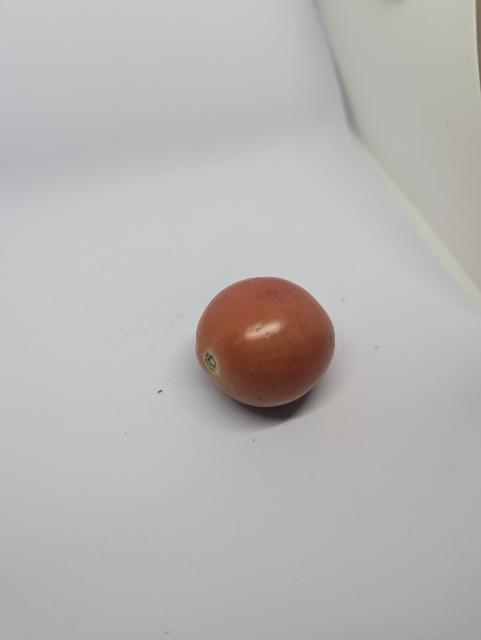red: (192, 274, 342, 419)
